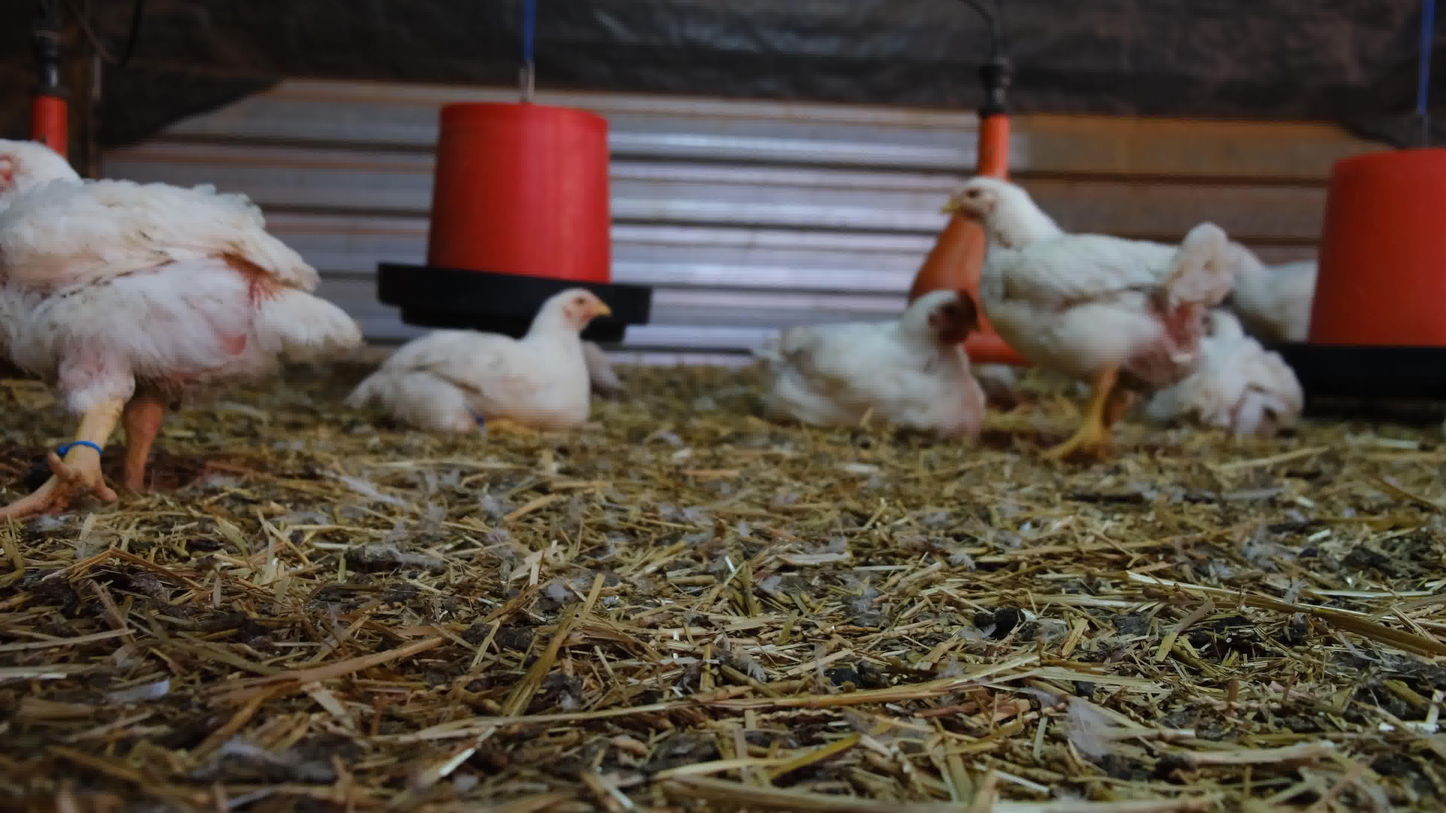AbNormal: (750, 285, 1000, 438), (338, 292, 612, 423), (1144, 310, 1307, 437)
Normal: (0, 130, 350, 514), (940, 174, 1237, 462), (1192, 213, 1337, 336)
